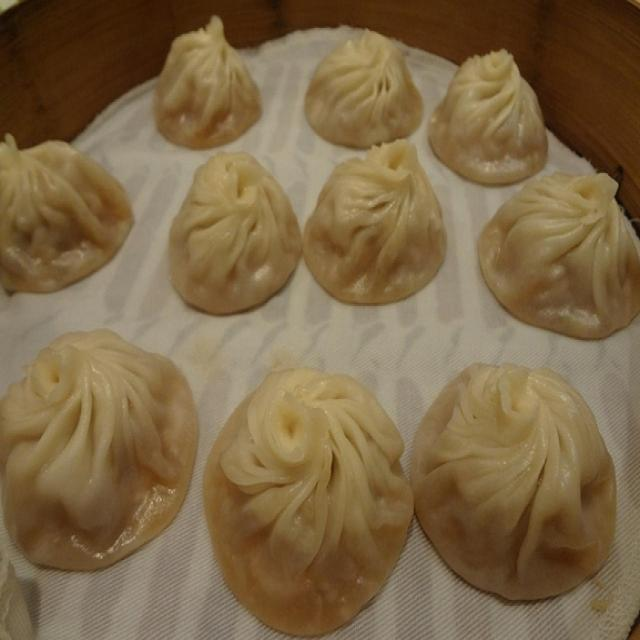带馅早点: (10, 10, 616, 612)
